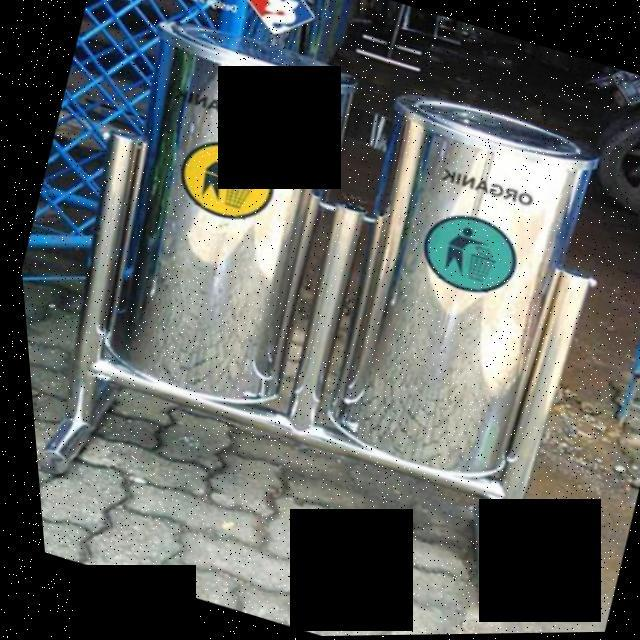bin: (238, 55, 640, 530), (31, 0, 408, 451)
